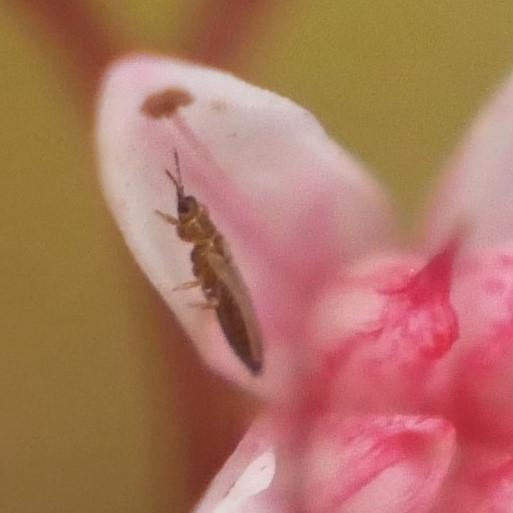tiny_pests: (129, 129, 301, 388)
